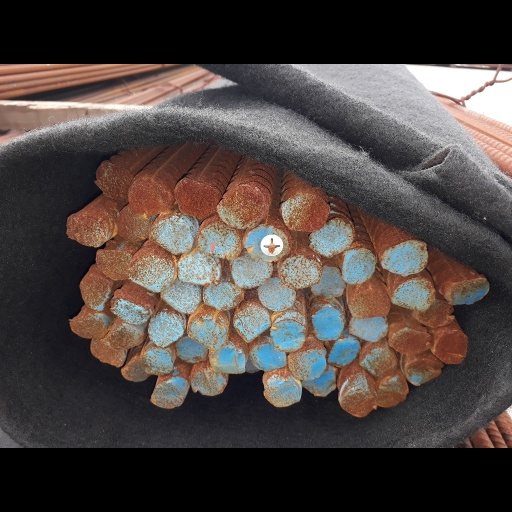dipstick: (218, 184, 268, 229), (381, 239, 426, 277), (311, 219, 353, 258), (283, 194, 328, 230), (175, 179, 217, 217), (129, 255, 175, 289), (150, 217, 193, 253), (129, 178, 173, 213), (262, 372, 302, 409), (197, 223, 239, 258), (244, 227, 287, 260), (96, 161, 131, 200), (66, 214, 107, 245), (392, 278, 432, 309), (233, 256, 273, 287), (160, 281, 200, 312), (110, 294, 151, 324), (178, 253, 218, 283), (447, 277, 490, 304), (281, 255, 317, 287), (349, 290, 390, 318), (340, 385, 376, 416), (259, 278, 295, 309), (190, 316, 226, 347), (234, 308, 268, 340), (271, 319, 305, 351), (148, 314, 182, 346), (345, 247, 375, 283), (289, 348, 325, 378), (117, 208, 149, 241), (435, 331, 468, 363), (312, 306, 344, 339), (95, 249, 129, 280), (79, 277, 110, 310), (203, 284, 243, 309), (311, 266, 343, 297), (90, 339, 125, 367), (391, 330, 430, 355), (378, 375, 408, 407), (360, 349, 396, 375), (190, 369, 226, 395), (349, 317, 387, 341), (209, 349, 245, 374), (328, 339, 360, 367), (406, 360, 442, 384), (107, 326, 142, 350), (142, 348, 173, 375), (252, 346, 286, 370), (420, 302, 453, 326), (70, 315, 103, 339), (151, 383, 182, 407), (178, 340, 206, 363), (301, 378, 334, 397), (123, 356, 146, 380)
